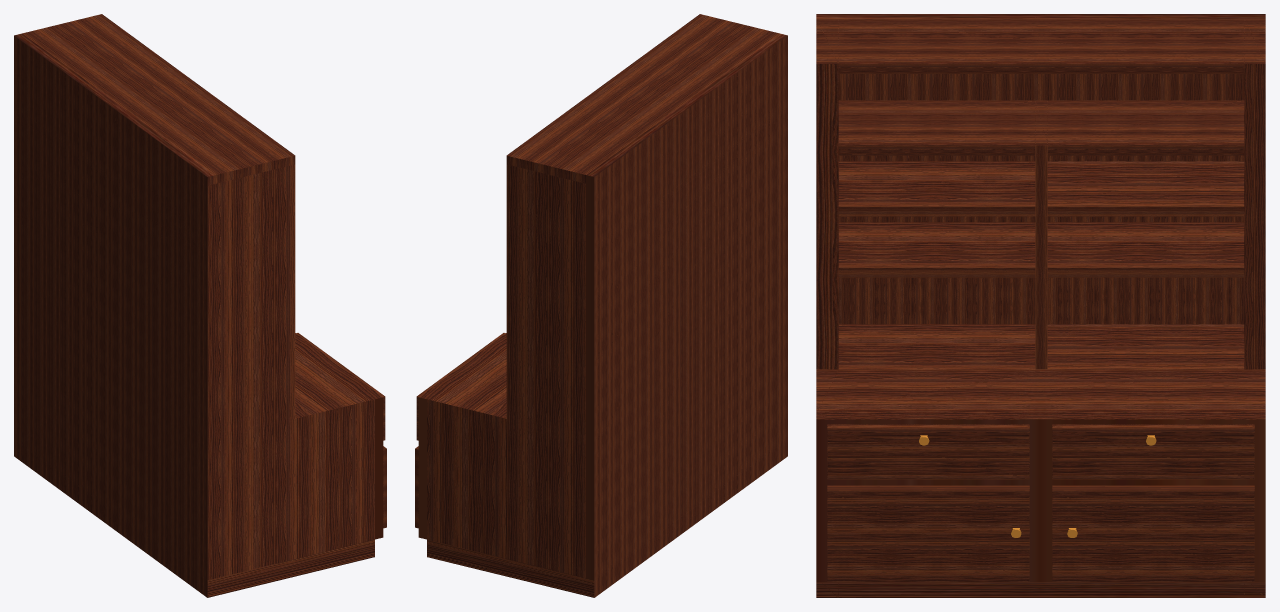
The model's file is Armário 3.fbx.
The picture shows the model from 3 angles, left to right: view 1: azimuth 30°, elevation 25°; view 2: azimuth 150°, elevation 25°; view 3: azimuth 270°, elevation 25°; orthographic projection. The views are drawn at different scales.
Visible parts, largest first — view 1: Cube.421; view 2: Cube.421; view 3: Cube.421, Cube.381, Cube.378, Cube.414, Cube.382.
Part boxes in pixels (x1,y1,x2,y2): Cube.421: (14,14,383,597); Cube.421: (418,14,787,597); Cube.421: (816,14,1265,597); Cube.381: (1052,485,1254,581); Cube.378: (827,485,1029,581); Cube.414: (1052,424,1254,479); Cube.382: (827,424,1029,479).
Bounding box in the file's own units: 291 × 618 × 515.
